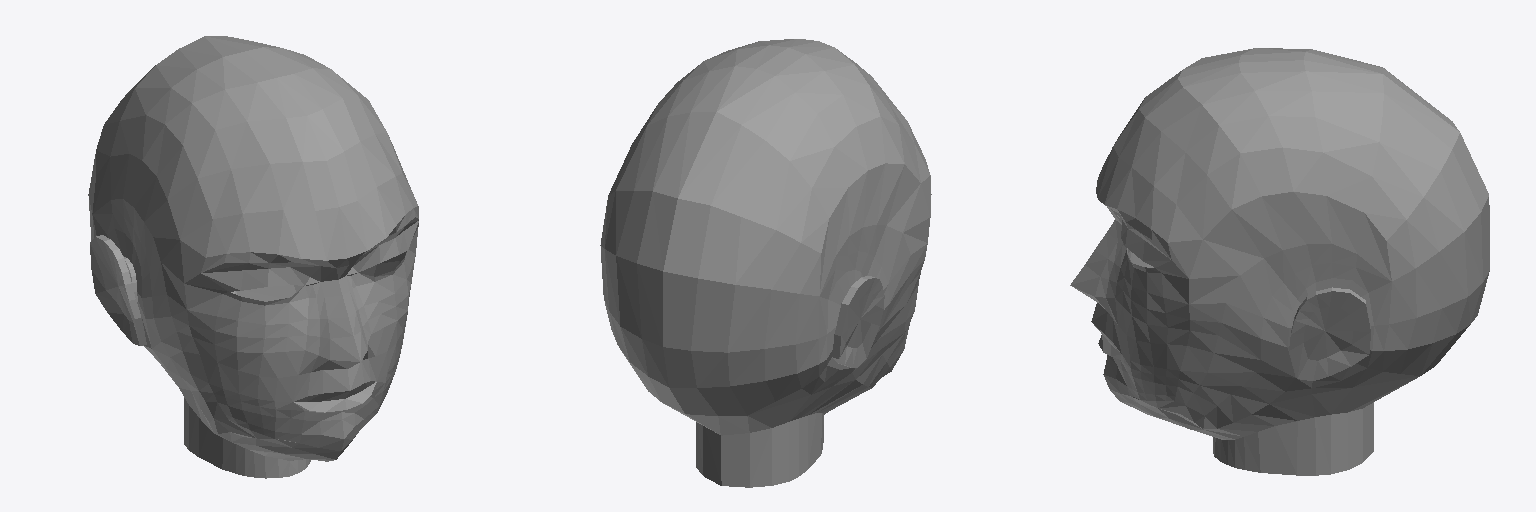
The model's file is sharav_face.obj.
3 renders of one model, left to right at view 1: azimuth 30°, elevation 25°; view 2: azimuth 150°, elevation 25°; view 3: azimuth 270°, elevation 25°, orthographic.
Parts seen in each view (by area): view 1: Mesh_Plane; view 2: Mesh_Plane; view 3: Mesh_Plane.
Part boxes in pixels (x1,y1,x2,y2): Mesh_Plane: (88, 36, 418, 478); Mesh_Plane: (600, 39, 931, 487); Mesh_Plane: (1070, 48, 1489, 475).
Size of the model in its own units: 8.61 by 12.82 by 12.46.